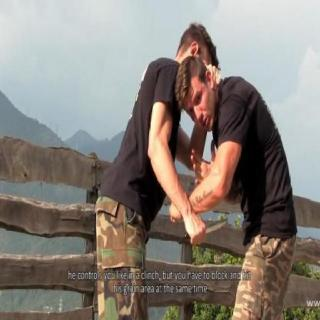knife: (183, 213, 231, 247)
